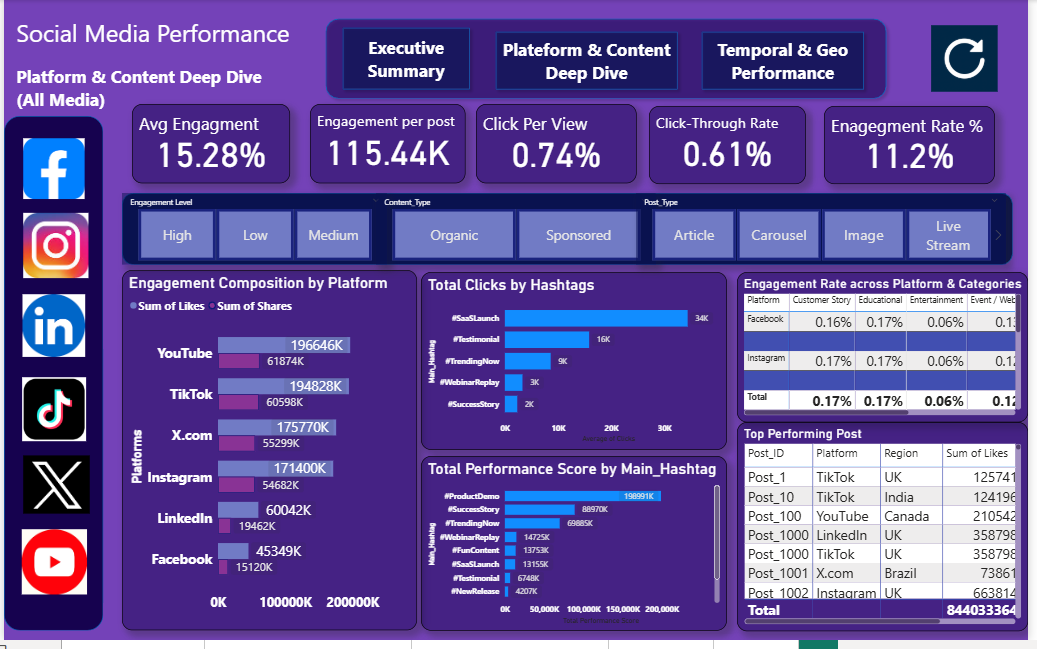

The dashboard page shown, as its layout file describes it:
{"tool":"powerbi","page":{"name":"Platform & Content Deep Dive","canvas":[1600,1000],"ordinal":1},"visuals":[{"type":"textbox","box":[14.3,20.4,479.6,75.5],"z":0},{"type":"textbox","box":[14.3,95.9,400,104.1],"z":1000},{"type":"shape","box":[0,181.6,155.1,804.1],"z":2000},{"type":"shape","box":[493.9,20.4,893.9,142.9],"z":3000},{"type":"shape","box":[520.4,34.7,216.3,114.3],"z":4000},{"type":"shape","box":[759.2,40.8,302,108.2],"z":5000},{"type":"shape","box":[1081.6,40.8,271.4,108.2],"z":6000},{"type":"card","fields":{"Values":["Posts.Avg Engagement %"]},"box":[200,163.3,246.9,124.5],"z":8000},{"type":"card","fields":{"Values":["Avg(Posts.Engagement)"]},"box":[477.6,163.3,242.9,124.5],"z":9000},{"type":"card","fields":{"Values":["Posts.Clicks Per View"]},"box":[736.7,163.3,251,124.5],"z":10000},{"type":"card","fields":{"Values":["Posts.CTR (%)"]},"box":[1008.2,165.3,244.9,122.4],"z":11000},{"type":"card","fields":{"Values":["Posts.Engagement Rate (%)"]},"box":[1281.6,165.3,267.3,122.4],"z":12000},{"type":"clusteredBarChart","title":"Engagement Composition by Platform","fields":{"Category":["Posts.Platform"],"Y":["Sum(Posts.Likes)","Sum(Posts.Shares)"]},"box":[183.7,422.4,461.2,563.3],"z":13000},{"type":"barChart","title":"Total Clicks by Hashtags","fields":{"Category":["Posts.Main_Hashtag"],"Y":["Avg(Posts.Clicks)"]},"box":[651,424.5,477.6,277.6],"z":14000},{"type":"barChart","fields":{"Y":["Posts.Total Performance Score"],"Category":["Posts.Main_Hashtag"]},"box":[651,712.2,477.6,273.5],"z":15000},{"type":"pivotTable","title":"Engagement Rate across Platform & Categories","fields":{"Rows":["Posts.Platform"],"Columns":["Posts.Content_Category"],"Values":["Posts.E Rate (%)"]},"box":[1144.9,424.5,455.1,234.7],"z":16000},{"type":"tableEx","title":"Top Performing Post","fields":{"Values":["Posts.Post_ID","Posts.Platform","Posts.Region","Sum(Posts.Likes)","Sum(Posts.Comments)"]},"box":[1144.9,659.2,455.1,326.5],"z":17000},{"type":"shape","box":[183.7,302,1391.8,112.2],"z":18000},{"type":"slicer","fields":{"Values":["Posts.Engagement_Level"]},"box":[183.7,302,414.3,112.2],"z":19000},{"type":"slicer","fields":{"Values":["Posts.Content_Type"]},"box":[581.6,302,436.7,112.2],"z":20000},{"type":"image","box":[24.5,326.5,112.2,114.3],"z":24000},{"type":"image","box":[22.4,455.1,112.2,108.2],"z":25000},{"type":"image","box":[20.4,583.7,116.3,110.2],"z":26000},{"type":"image","box":[24.5,702,114.3,110.2],"z":27000},{"type":"image","box":[18.4,822.4,120.4,112.2],"z":28000},{"type":"slicer","fields":{"Values":["Posts.Post_Type"]},"box":[987.8,302,577.6,112.2],"z":28500},{"type":"image","box":[24.5,200,106.1,126.5],"z":29000},{"type":"slicer","fields":{"Values":["Posts.Platform"]},"box":[1506.1,91.8,22.4,18.4],"z":29500},{"type":"image","box":[1416.3,34.7,169.4,114.3],"z":30000}]}

Visuals, with their boxes in screenshot pixels (x1, y1, x2, y2), scaled from the page's 1600x1000 canvas onto the 1037x649 screenshot:
textbox: (left=9, top=13, right=320, bottom=62)
textbox: (left=9, top=62, right=269, bottom=130)
shape: (left=0, top=118, right=101, bottom=640)
shape: (left=320, top=13, right=899, bottom=106)
shape: (left=337, top=23, right=477, bottom=97)
shape: (left=492, top=26, right=688, bottom=97)
shape: (left=701, top=26, right=877, bottom=97)
card - Posts.Avg Engagement %: (left=130, top=106, right=290, bottom=187)
card - Avg(Posts.Engagement): (left=310, top=106, right=467, bottom=187)
card - Posts.Clicks Per View: (left=477, top=106, right=640, bottom=187)
card - Posts.CTR (%): (left=653, top=107, right=812, bottom=187)
card - Posts.Engagement Rate (%): (left=831, top=107, right=1004, bottom=187)
"Engagement Composition by Platform" clusteredBarChart: (left=119, top=274, right=418, bottom=640)
"Total Clicks by Hashtags" barChart: (left=422, top=276, right=731, bottom=456)
barChart - Posts.Total Performance Score x Posts.Main_Hashtag: (left=422, top=462, right=731, bottom=640)
"Engagement Rate across Platform & Categories" pivotTable: (left=742, top=276, right=1036, bottom=428)
"Top Performing Post" tableEx: (left=742, top=428, right=1036, bottom=640)
shape: (left=119, top=196, right=1021, bottom=269)
slicer - Posts.Engagement_Level: (left=119, top=196, right=388, bottom=269)
slicer - Posts.Content_Type: (left=377, top=196, right=660, bottom=269)
image: (left=16, top=212, right=89, bottom=286)
image: (left=15, top=295, right=87, bottom=366)
image: (left=13, top=379, right=89, bottom=450)
image: (left=16, top=456, right=90, bottom=527)
image: (left=12, top=534, right=90, bottom=607)
slicer - Posts.Post_Type: (left=640, top=196, right=1015, bottom=269)
image: (left=16, top=130, right=85, bottom=212)
slicer - Posts.Platform: (left=976, top=60, right=991, bottom=72)
image: (left=918, top=23, right=1028, bottom=97)
